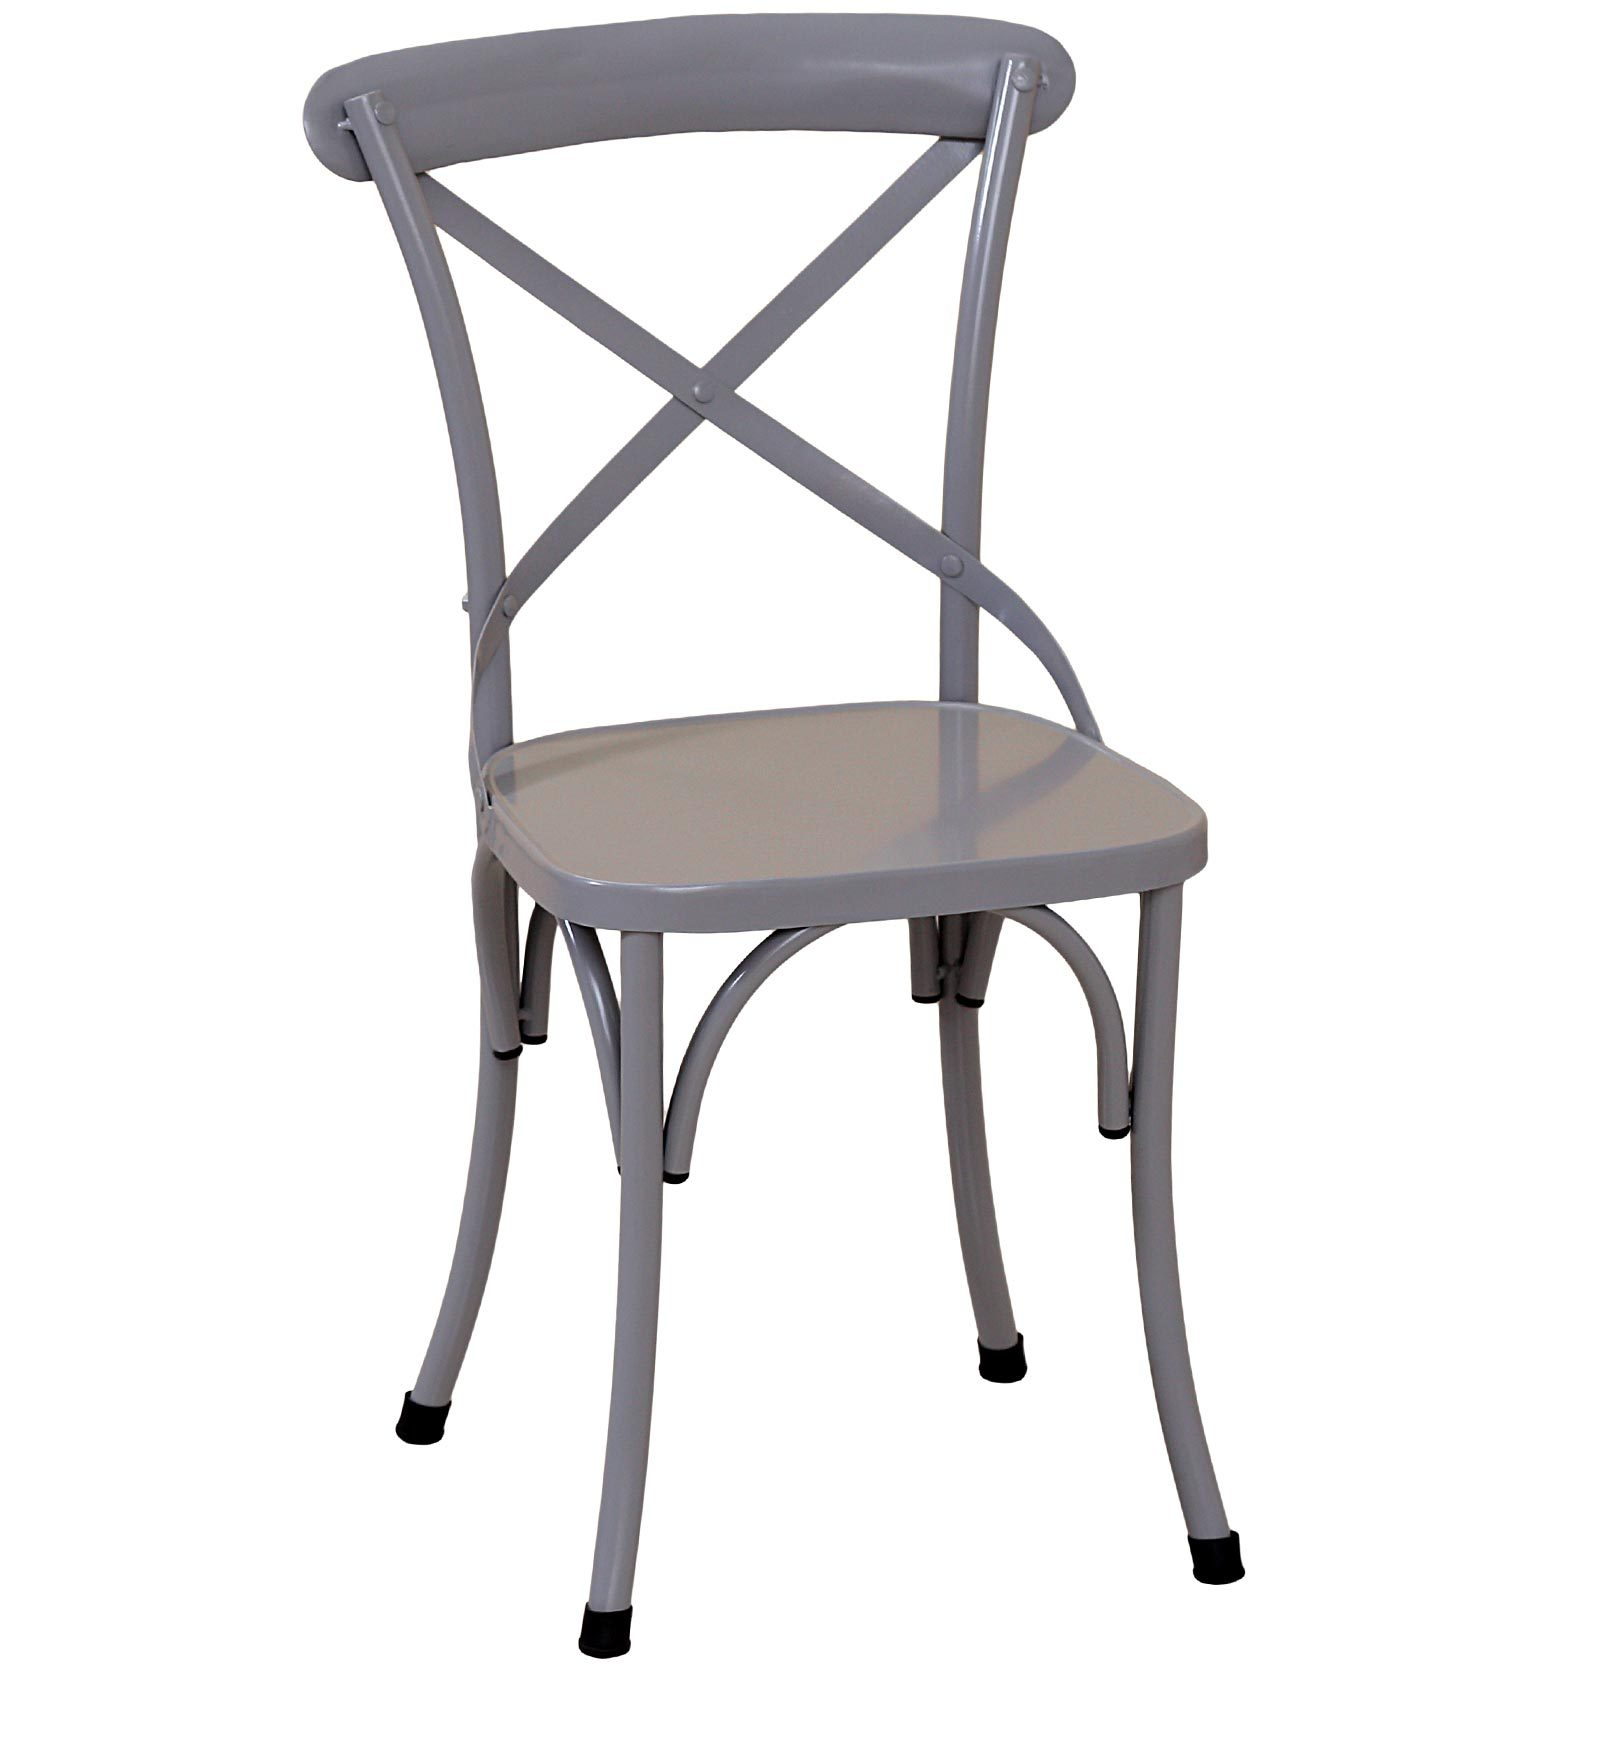Fabian Metal Chair in Steel Grey Color by Bohemiana: (277, 5, 1313, 1685)
